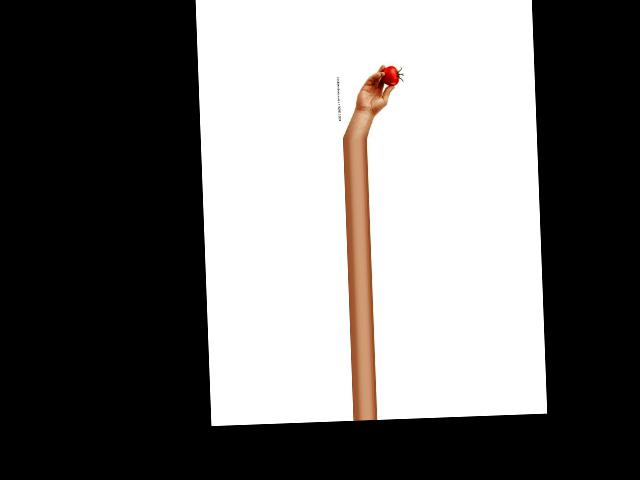tomato: (381, 66, 398, 86)
